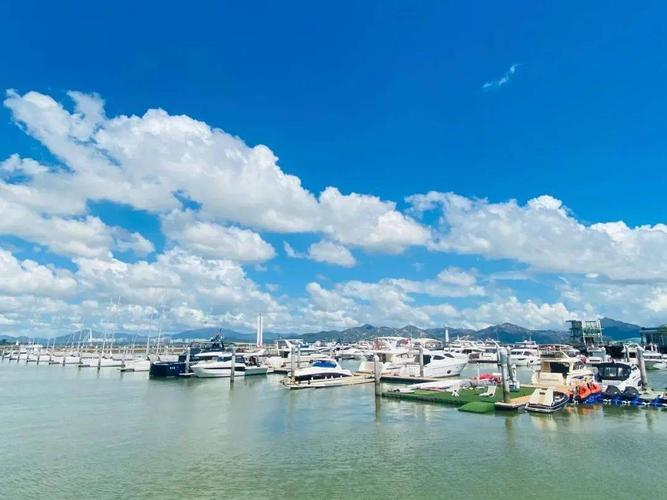sea_river: (21, 359, 456, 499)
sky_cloud: (3, 56, 666, 236)
